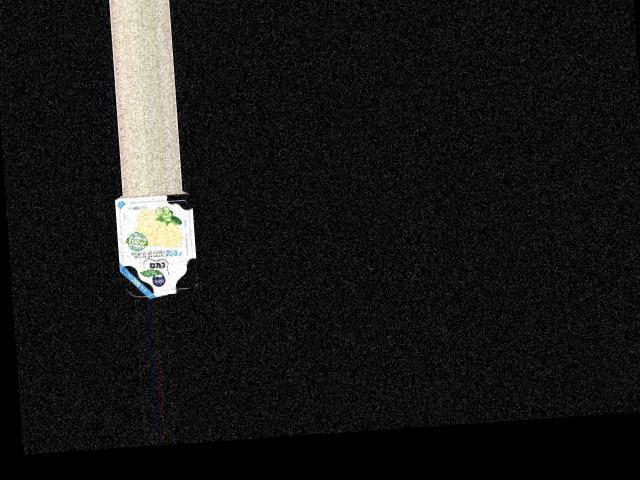cheese: (109, 189, 202, 299)
